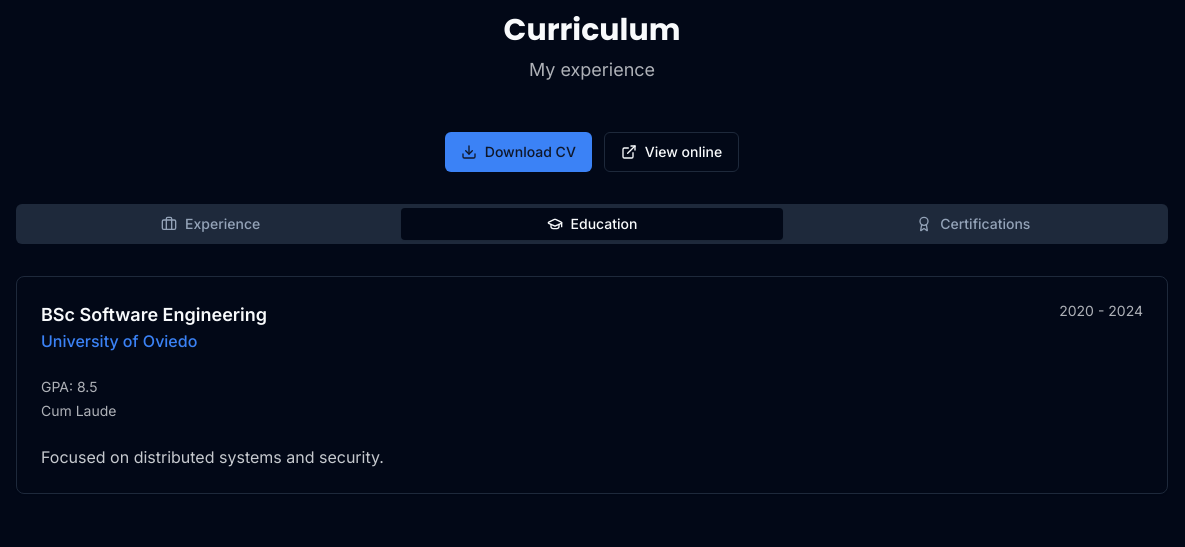
Test case: CVSection › renders an array description as a list on the experience tab
The width and height of the screenshot is (1185, 547).
Click the tab "Experience" at {"x": 211, "y": 224}, box [20,208,401,240]
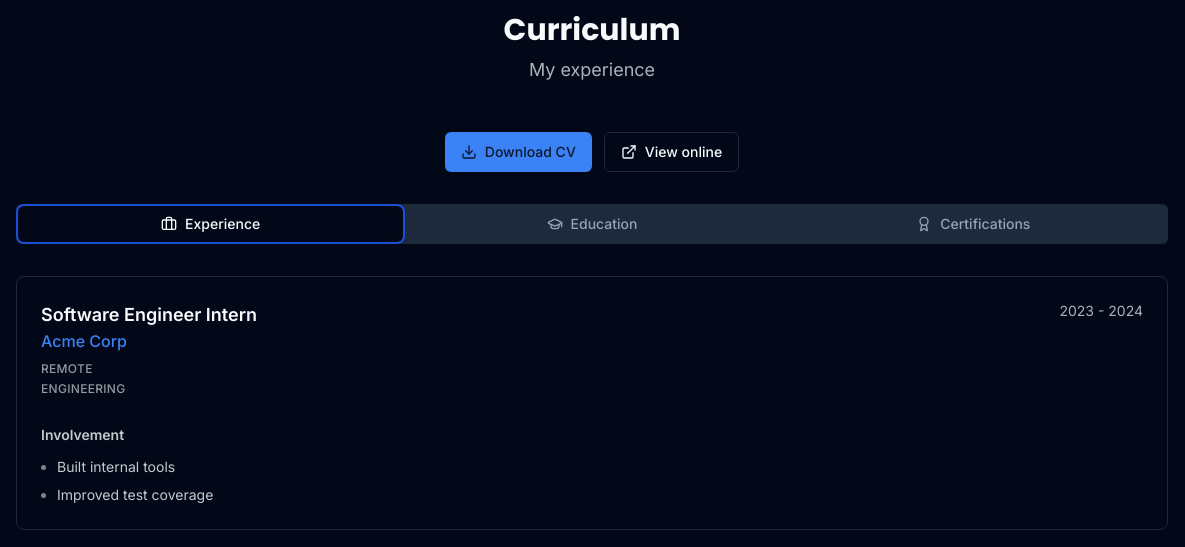
Now the heading "Software Engineer Intern" is shown, box [41,304,257,325]
Now the text "Acme Corp" is shown, box [41,331,127,351]
Now the text "Remote" is shown, box [41,361,93,376]
